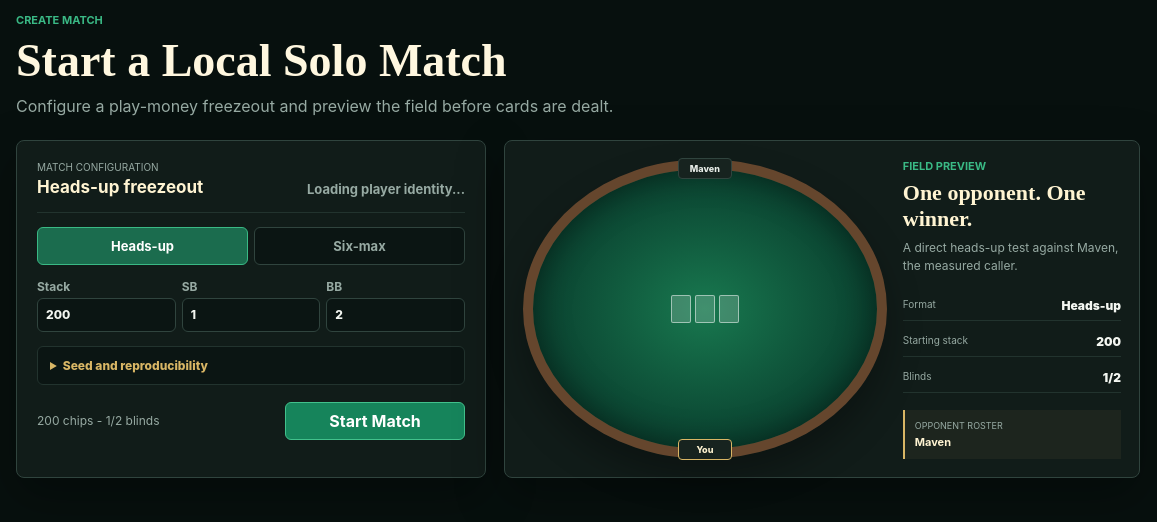
it: PokerTable › does not create a guest-named table while a signed-in profile is still loading
Click the button "Start Match": (375, 421) [285,402,465,440]
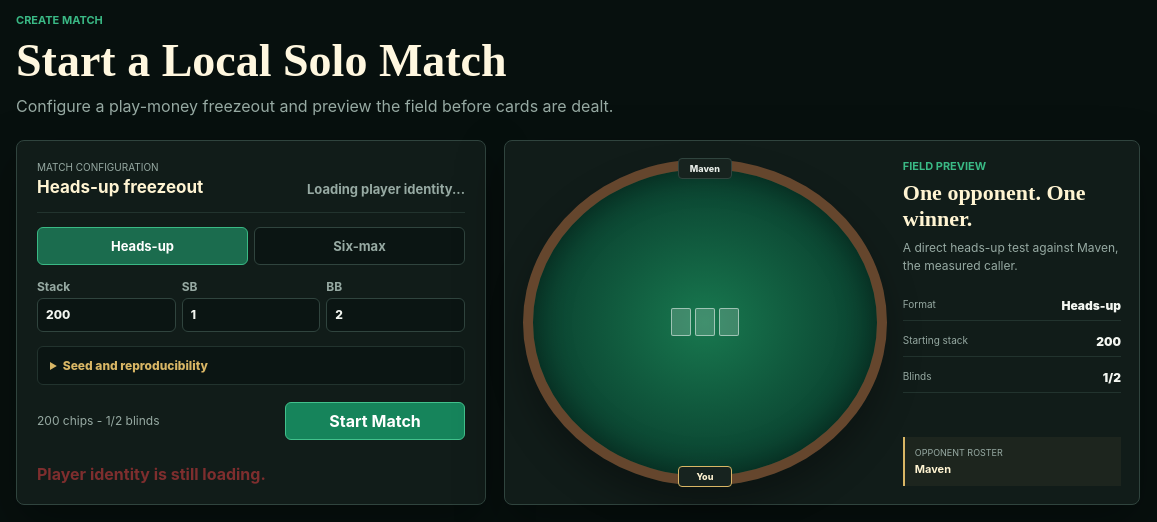
Expected: the message reads "Player identity is still loading.", [37,464,266,484]
